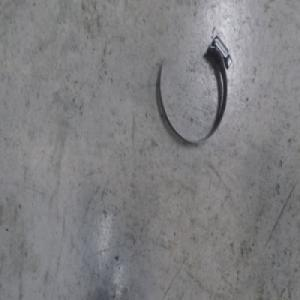AdjustableClamp: (157, 30, 232, 150)
